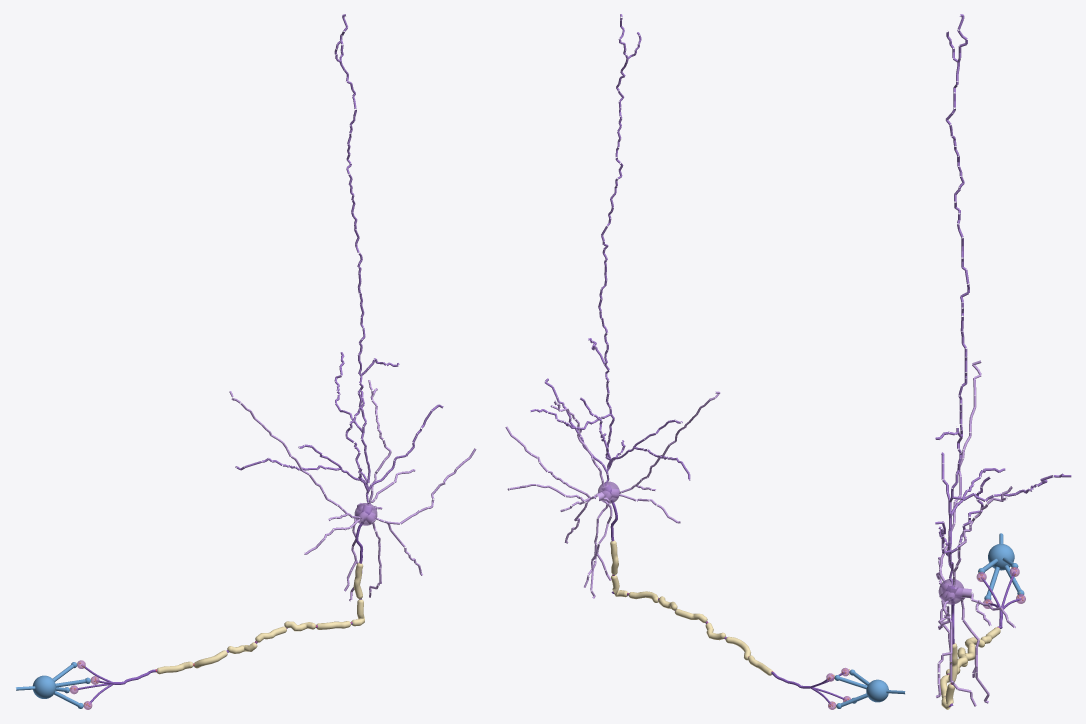
The model's file is neurona-sinapsis.glb.
3 renders of one model, left to right at view 1: azimuth 30°, elevation 25°; view 2: azimuth 150°, elevation 25°; view 3: azimuth 270°, elevation 25°, orthographic. The views are drawn at different scales.
Parts seen in each view (by area): view 1: dendrita-apical, dendritas, vaina-mielina, neurona-postsinaptica; view 2: dendrita-apical, dendritas, vaina-mielina, neurona-postsinaptica; view 3: dendrita-apical, dendritas, vaina-mielina, neurona-postsinaptica, soma, botones-sinapticos, terminales-axonicos, axon.
Boxes of the visible parts, box(x1,y1,x2,y2) form: dendrita-apical: box(235, 14, 443, 512); dendritas: box(229, 380, 476, 601); vaina-mielina: box(157, 563, 364, 674); neurona-postsinaptica: box(16, 662, 90, 708); dendrita-apical: box(530, 14, 690, 491); dendritas: box(505, 391, 720, 598); vaina-mielina: box(610, 540, 772, 675); neurona-postsinaptica: box(834, 669, 905, 708); dendrita-apical: box(935, 14, 1071, 591); dendritas: box(936, 360, 1015, 706); vaina-mielina: box(940, 627, 1000, 709); neurona-postsinaptica: box(978, 533, 1024, 601); soma: box(938, 578, 963, 604); botones-sinapticos: box(976, 567, 1025, 608); terminales-axonicos: box(981, 571, 1021, 609); axon: box(944, 598, 1002, 707).
Size of the model in its own units: 385 by 542 by 92.16.
